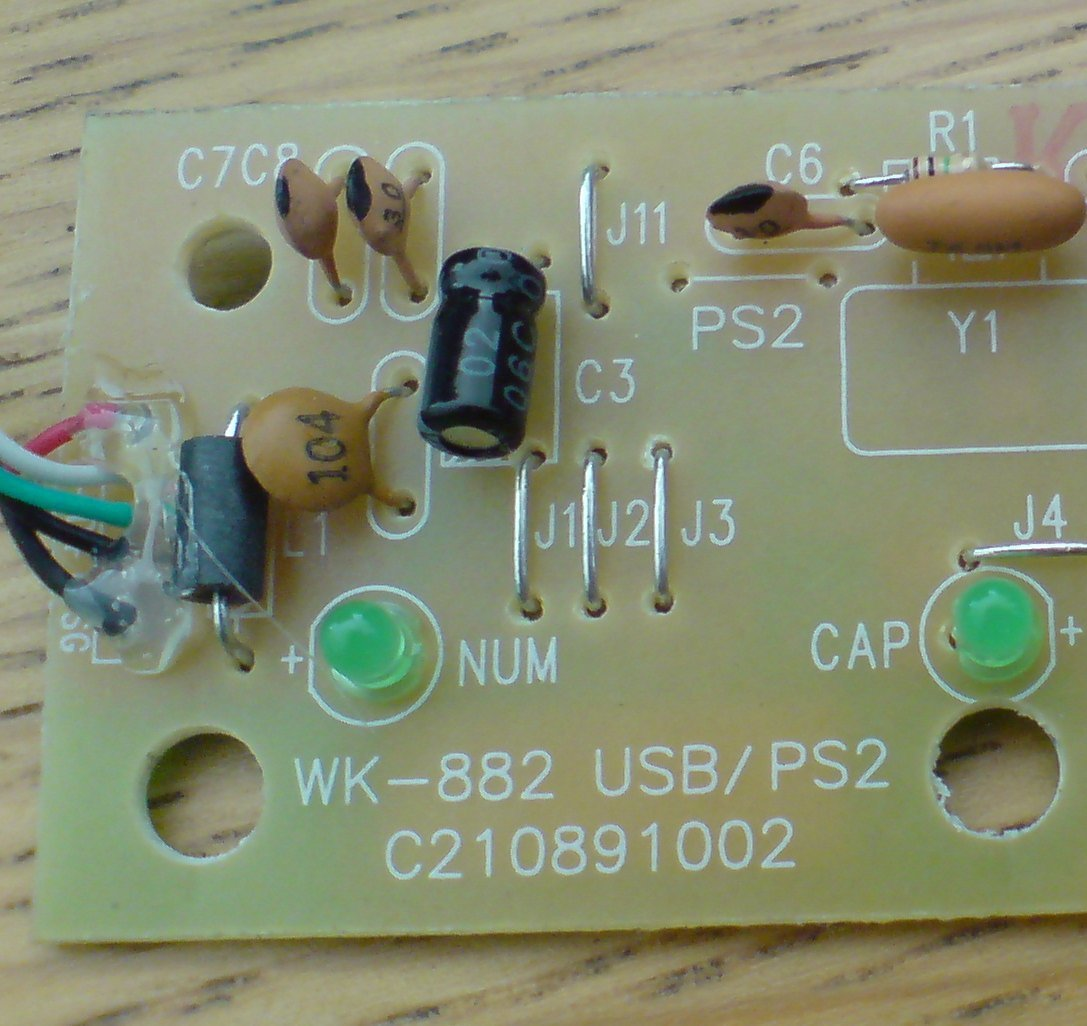Capacitor: (411, 239, 543, 470)
LED: (312, 592, 427, 708), (941, 577, 1046, 693)
Resistor: (896, 151, 998, 183)
